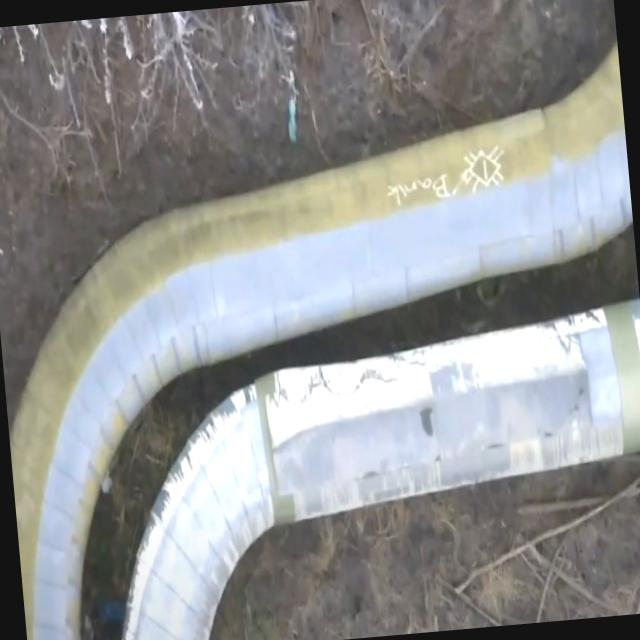gas: (9, 46, 633, 640), (122, 298, 640, 640)
